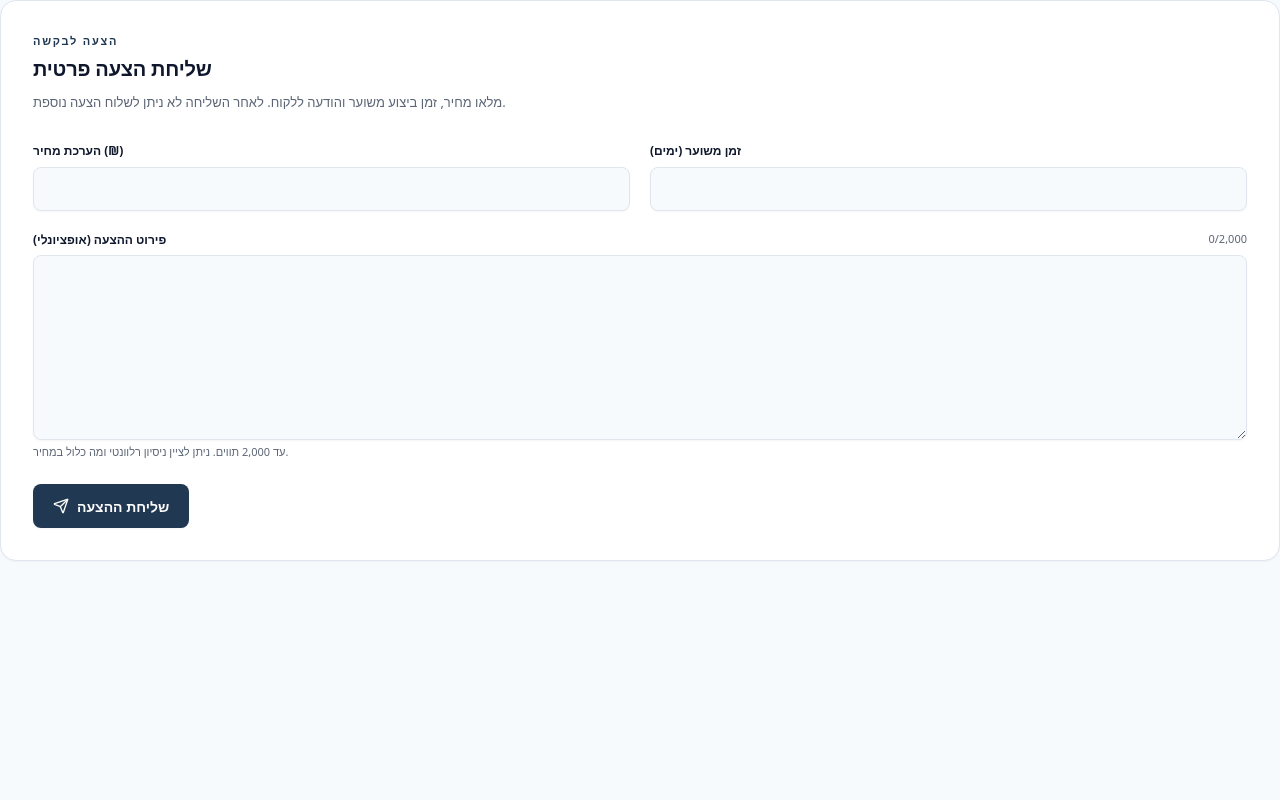
Scenario: SupplierOfferPanel › does not submit an invalid price 0
Type "3" into the number field labelled "זמן משוער (ימים)".
click(948, 189); type("3")  # box [650, 167, 1247, 211]
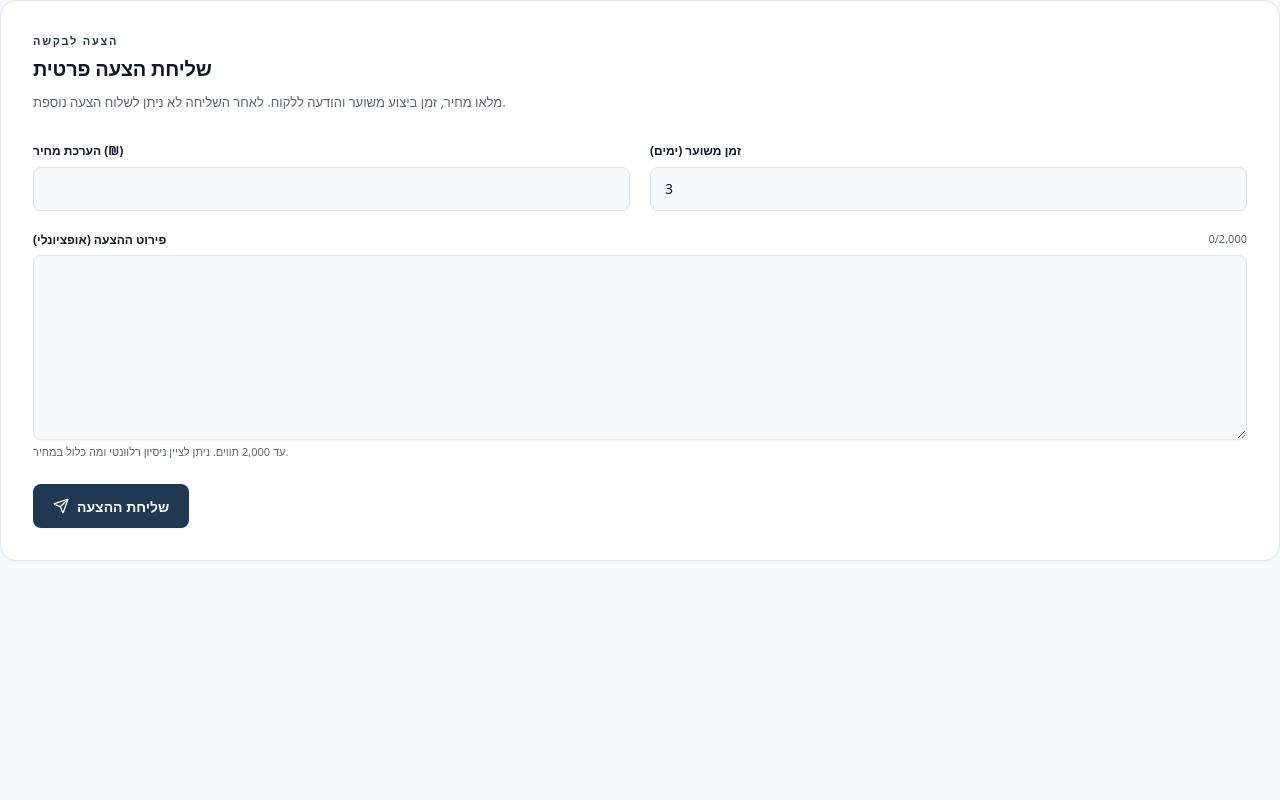
Type "פירוט מספק של ההצעה לביצוע העבודה המבוקשת." into the text box labelled "פירוט ההצעה (אופציונלי)".
click(640, 347); type("פירוט מספק של ההצעה לביצוע העבודה המבוקשת.")  # box [33, 255, 1247, 440]
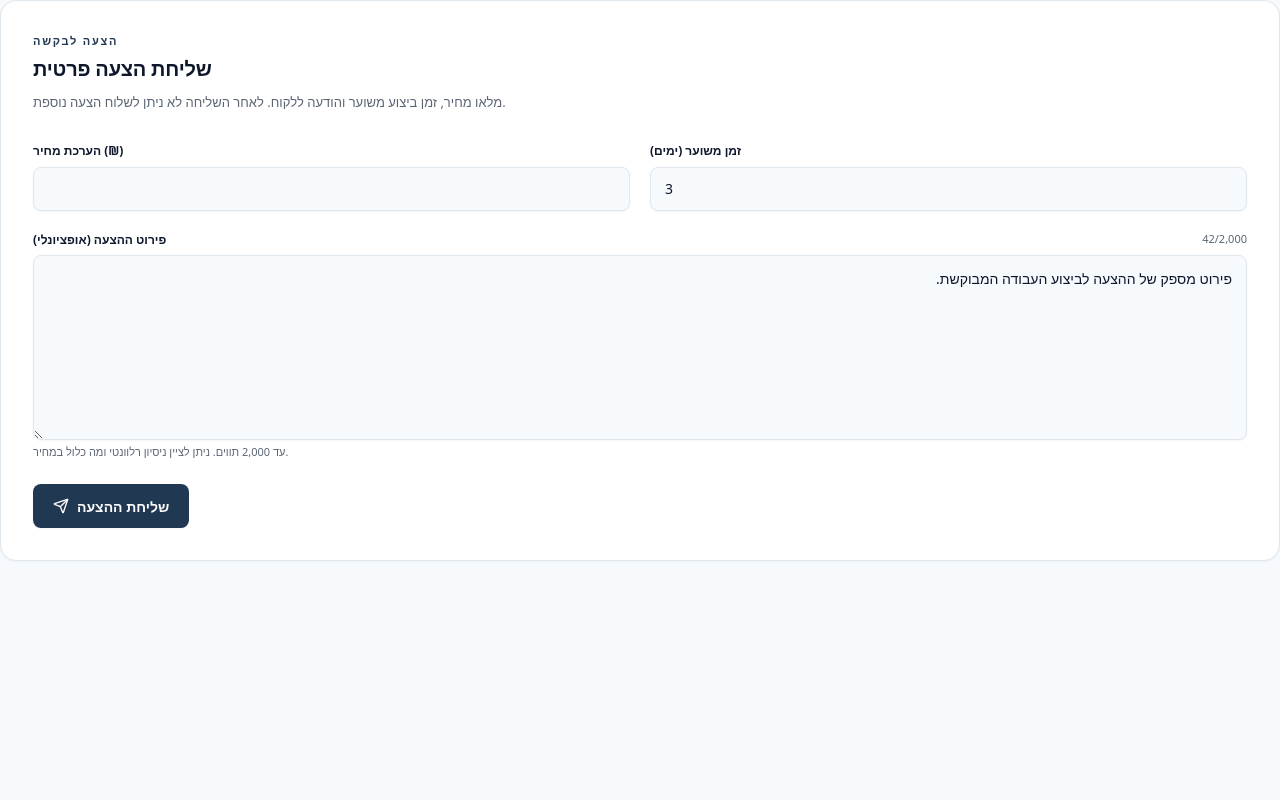
Type "0" into the number field labelled "הערכת מחיר (₪)".
click(332, 189); type("0")  # box [33, 167, 630, 211]
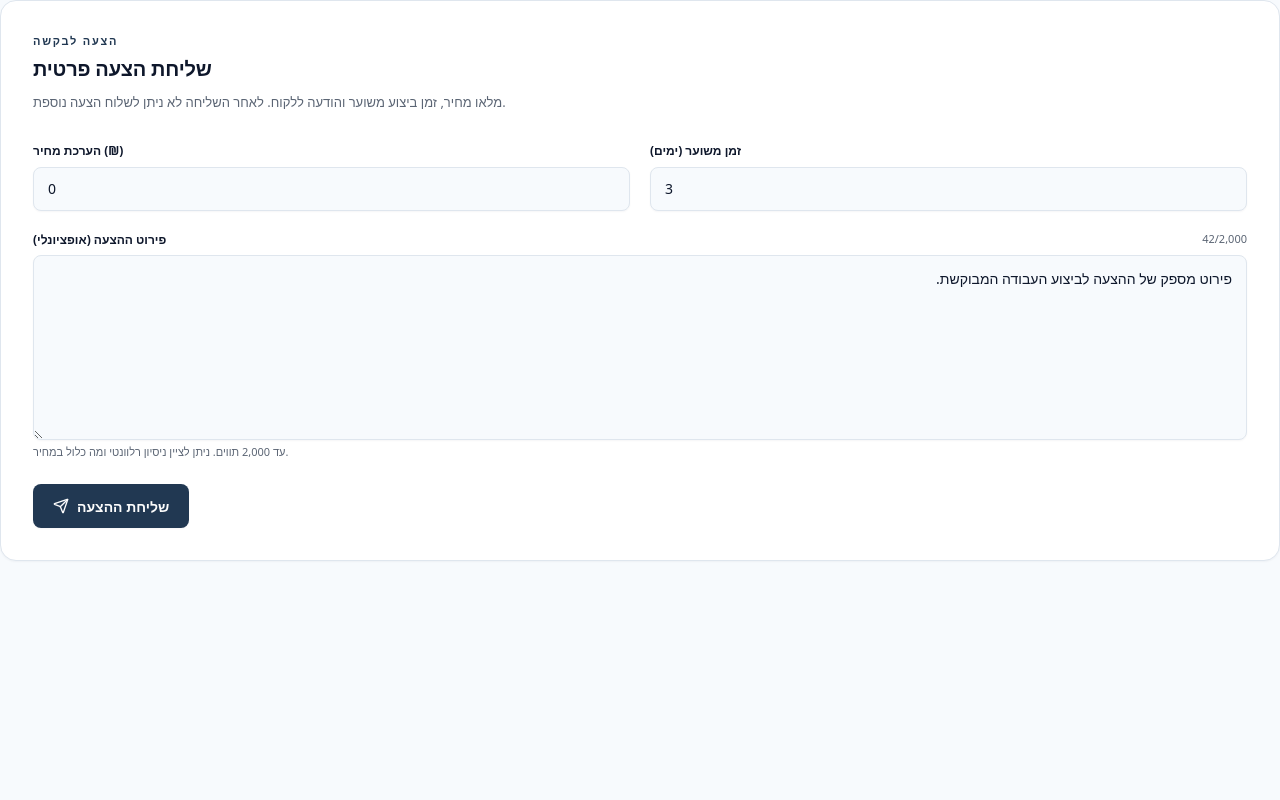
Click the button "שליחת ההצעה".
click(111, 506)  # box [33, 484, 189, 528]
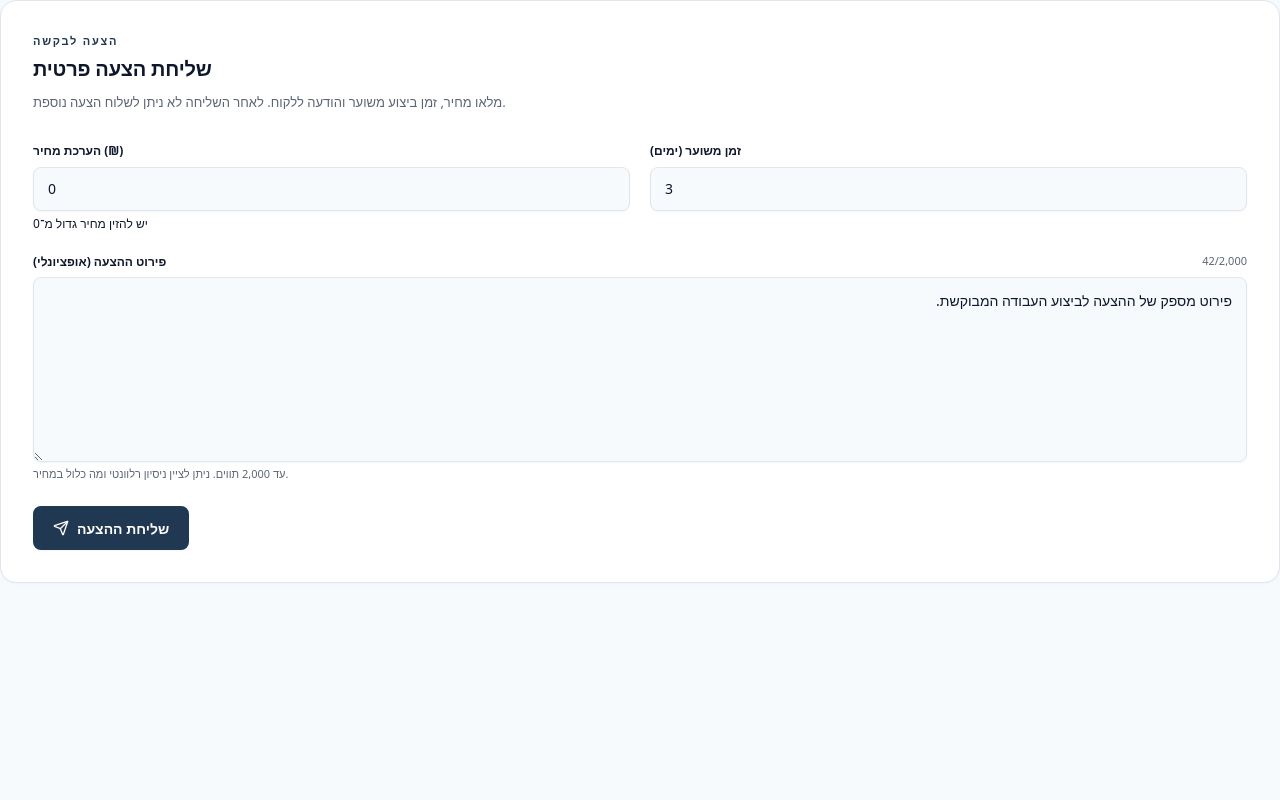
Expected: the text "יש להזין מחיר גדול מ־0" is shown, [33, 215, 148, 232]
